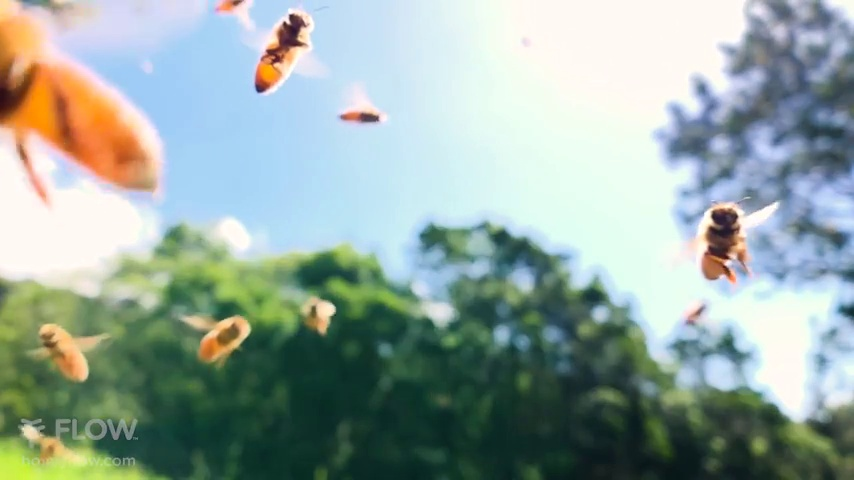insect: (1, 7, 163, 196), (694, 194, 777, 284), (254, 10, 322, 93), (23, 322, 103, 386), (183, 310, 247, 367), (336, 87, 386, 123), (298, 299, 336, 337)
